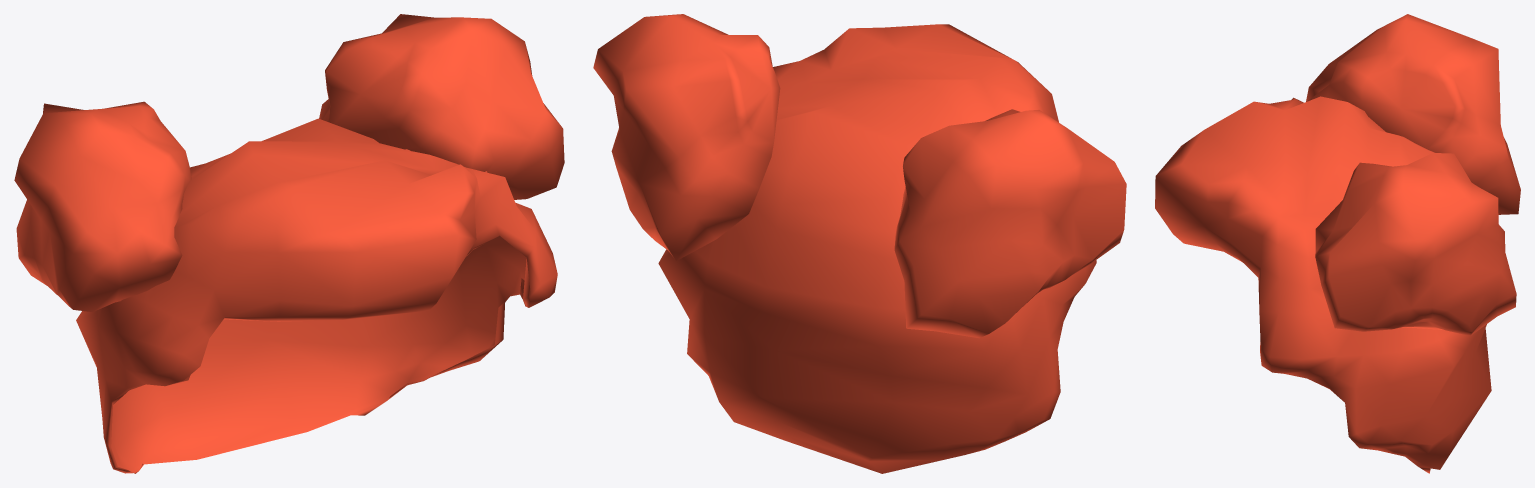
The model's file is hair3.dae.
The picture shows the model from 3 angles, left to right: view 1: azimuth 30°, elevation 25°; view 2: azimuth 150°, elevation 25°; view 3: azimuth 270°, elevation 25°; orthographic projection. The views are drawn at different scales.
Visible parts, largest first — view 1: hair3; view 2: hair3; view 3: hair3.
Boxes of the visible parts, x1,y1,x2,y2 form: hair3: (14, 14, 564, 473); hair3: (593, 14, 1126, 473); hair3: (1155, 14, 1520, 473).
Bounding box in the file's own units: 11234 × 8392 × 8005.
